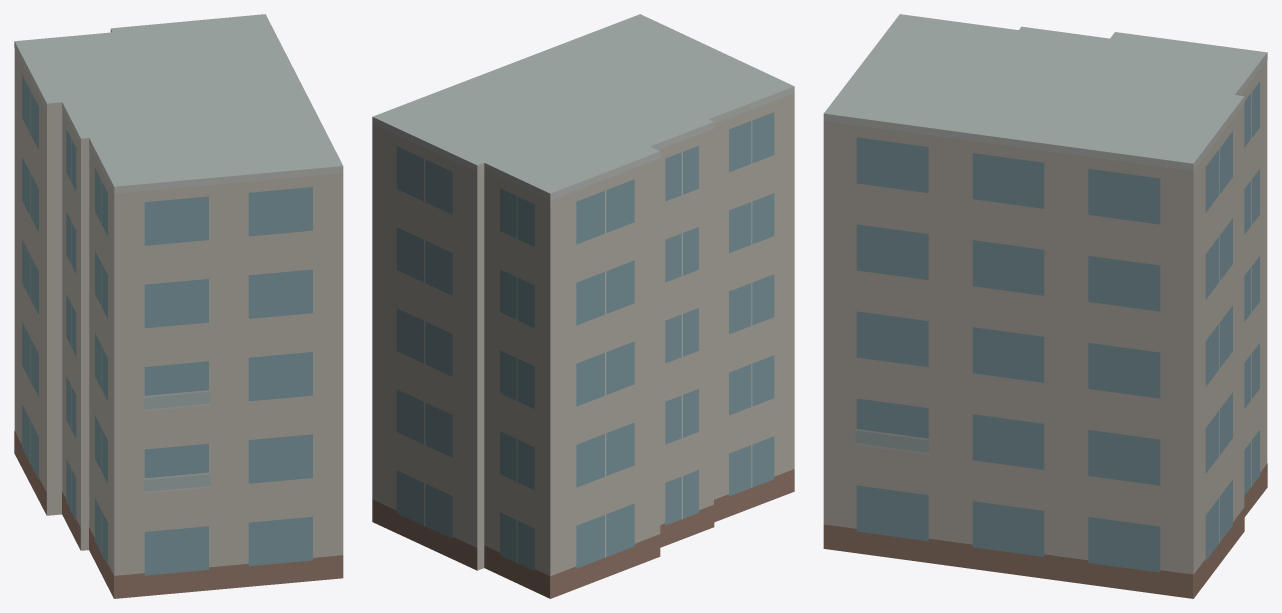
Rendered from survey-upis-32886567.glb.
3 views of the same model, side by side, from view 1: azimuth 30°, elevation 25°; view 2: azimuth 150°, elevation 25°; view 3: azimuth 270°, elevation 25° (orthographic). The views are drawn at different scales.
Parts seen in each view (by area): view 1: survey-upis-32886567.tmp; view 2: survey-upis-32886567.tmp; view 3: survey-upis-32886567.tmp.
Part boxes in pixels (bbox=[...]): survey-upis-32886567.tmp: bbox=[14, 14, 343, 598]; survey-upis-32886567.tmp: bbox=[372, 14, 794, 598]; survey-upis-32886567.tmp: bbox=[823, 14, 1267, 598].
Size of the model in its own units: 10.71 by 14.5 by 13.41.
